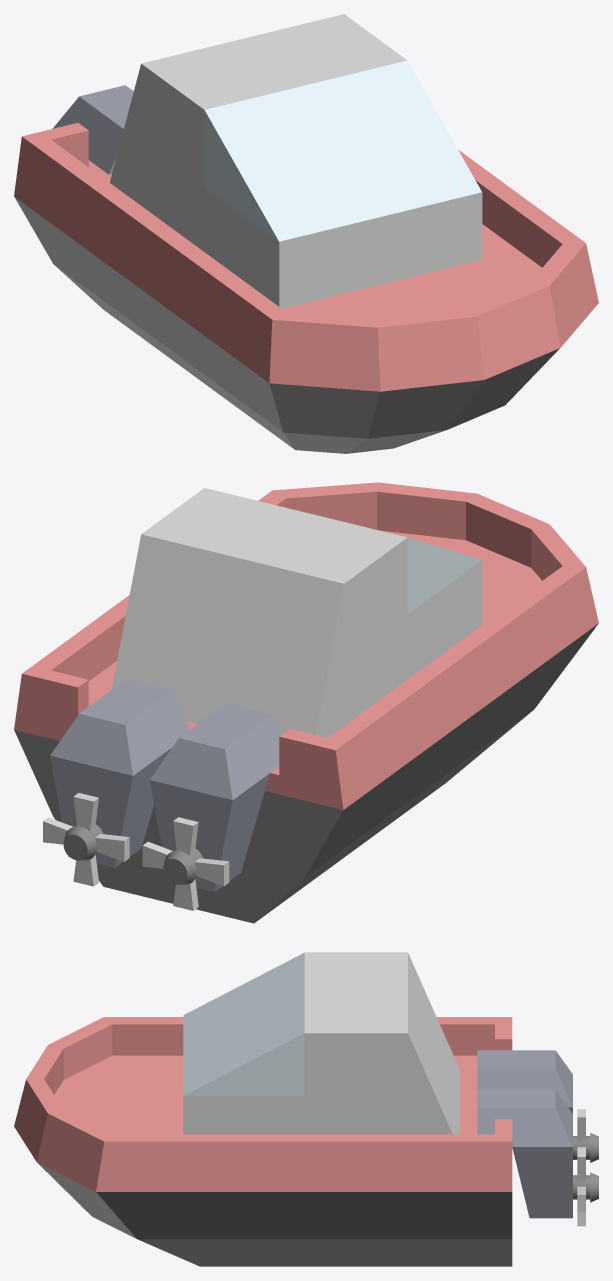
File: watercraftPack_009.glb
The picture shows the model from 3 angles, top to bottom: view 1: azimuth 30°, elevation 25°; view 2: azimuth 150°, elevation 25°; view 3: azimuth 270°, elevation 25°; orthographic projection. The views are drawn at different scales.
Visible parts, largest first — view 1: Mesh5 Group1 Model, Mesh1 Group2 Group1 Model; view 2: Mesh5 Group1 Model, Mesh1 Group2 Group1 Model, Mesh3 Group4 Group1 Model, Mesh4 Group5 Group1 Model, Mesh2 Group3 Group1 Model; view 3: Mesh5 Group1 Model, Mesh3 Group4 Group1 Model, Mesh1 Group2 Group1 Model, Mesh2 Group3 Group1 Model.
Boxes of the visible parts, x1,y1,x2,y2 form: Mesh5 Group1 Model: [14, 14, 598, 453]; Mesh1 Group2 Group1 Model: [52, 85, 133, 174]; Mesh5 Group1 Model: [14, 482, 598, 923]; Mesh1 Group2 Group1 Model: [150, 703, 281, 892]; Mesh3 Group4 Group1 Model: [50, 678, 189, 867]; Mesh4 Group5 Group1 Model: [142, 817, 229, 910]; Mesh2 Group3 Group1 Model: [43, 793, 129, 886]; Mesh5 Group1 Model: [14, 952, 512, 1266]; Mesh3 Group4 Group1 Model: [477, 1090, 598, 1218]; Mesh1 Group2 Group1 Model: [477, 1050, 598, 1162]; Mesh2 Group3 Group1 Model: [577, 1149, 585, 1226].
Size of the model in its own units: 1.78 by 1.55 by 3.37.
